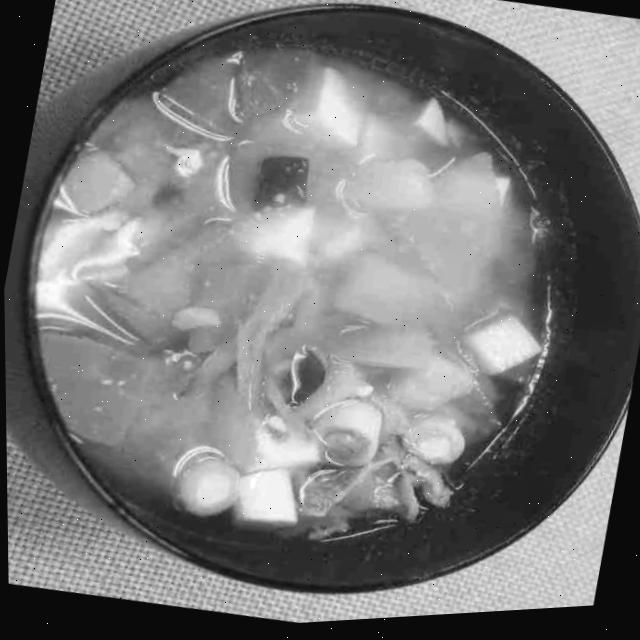蔬菜料理: (284, 0, 640, 418)
